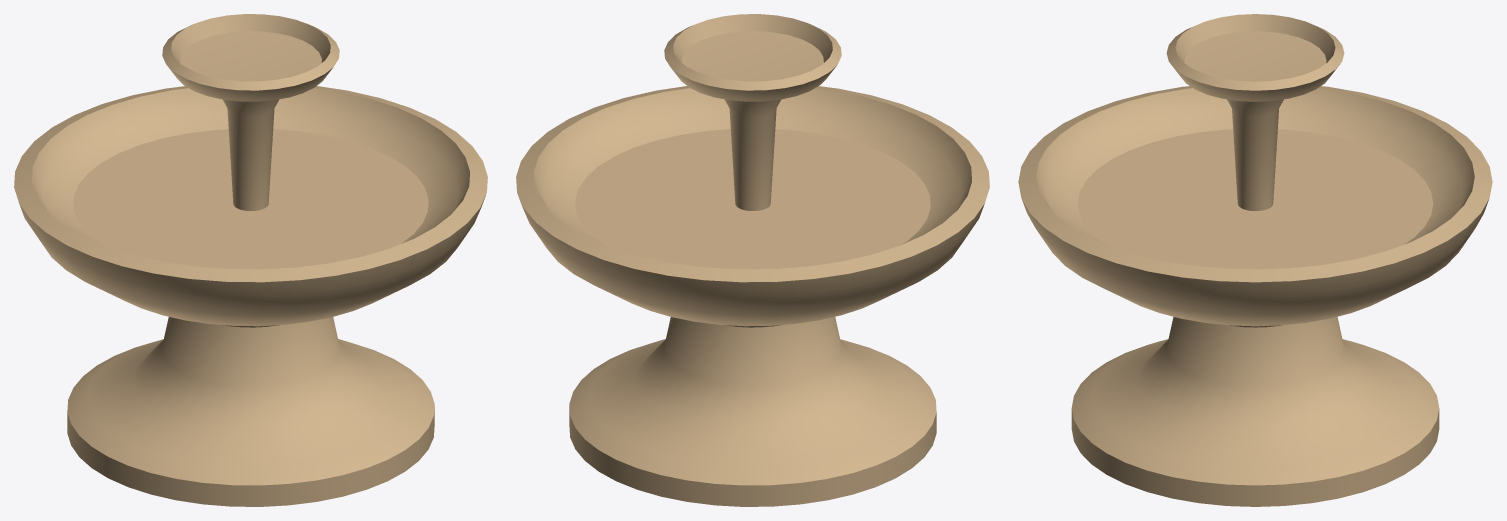
File: fountain_basin.glb
The picture shows the model from 3 angles, left to right: view 1: azimuth 30°, elevation 25°; view 2: azimuth 150°, elevation 25°; view 3: azimuth 270°, elevation 25°; orthographic projection.
Visible parts, largest first — view 1: fountain_basin; view 2: fountain_basin; view 3: fountain_basin.
Boxes of the visible parts, bbox=[...] form: fountain_basin: bbox=[14, 14, 487, 506]; fountain_basin: bbox=[516, 14, 989, 506]; fountain_basin: bbox=[1018, 14, 1492, 506].
Bounding box in the file's own units: 1.6 × 1.42 × 1.6.
